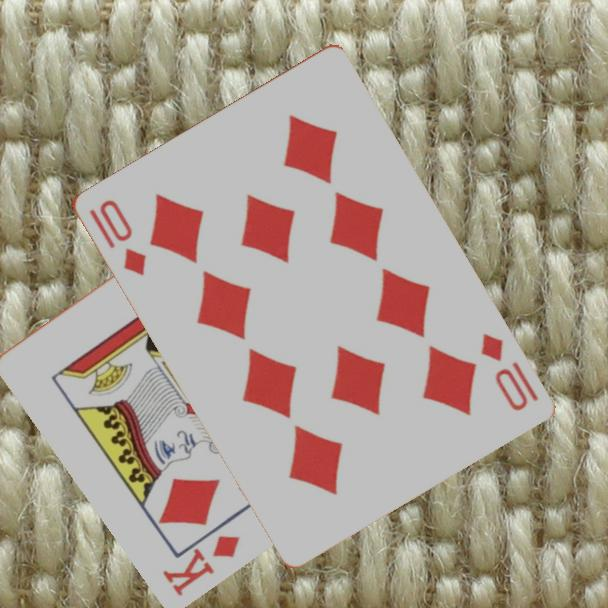d10: (476, 329, 541, 414), (85, 195, 149, 279)
d13: (159, 531, 243, 599)
